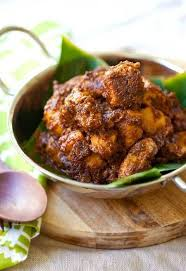rendang: (20, 44, 186, 187)
